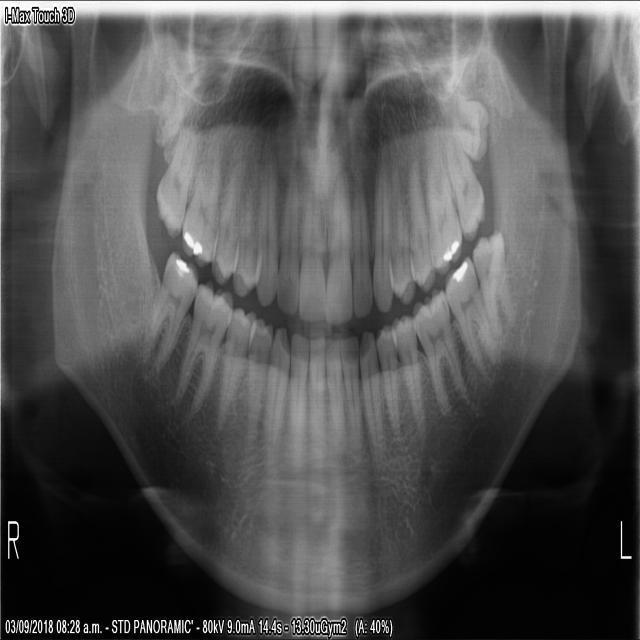LCD: (356, 327, 383, 480)
LCU: (369, 148, 393, 315)
LID: (336, 331, 362, 451), (323, 330, 345, 459)
LIU: (322, 172, 352, 328), (351, 174, 373, 320)
LMD: (410, 283, 469, 418), (442, 251, 499, 380), (469, 225, 518, 338)
LMU: (423, 128, 463, 277), (442, 127, 485, 244), (444, 95, 488, 160)
LPMD: (389, 310, 425, 451), (373, 320, 399, 449)
LPMU: (385, 153, 416, 309), (407, 143, 436, 295)
RCD: (261, 325, 289, 467)
RCU: (252, 143, 278, 308)
RID: (287, 330, 308, 466), (307, 333, 324, 470)
RIU: (296, 162, 325, 323), (274, 165, 298, 316)
RMD: (173, 277, 232, 412), (144, 249, 197, 370)
RMU: (179, 119, 223, 269), (152, 119, 197, 241)
RPMD: (215, 304, 256, 430), (245, 315, 272, 449)
RPMU: (229, 146, 261, 298), (207, 141, 239, 286)
